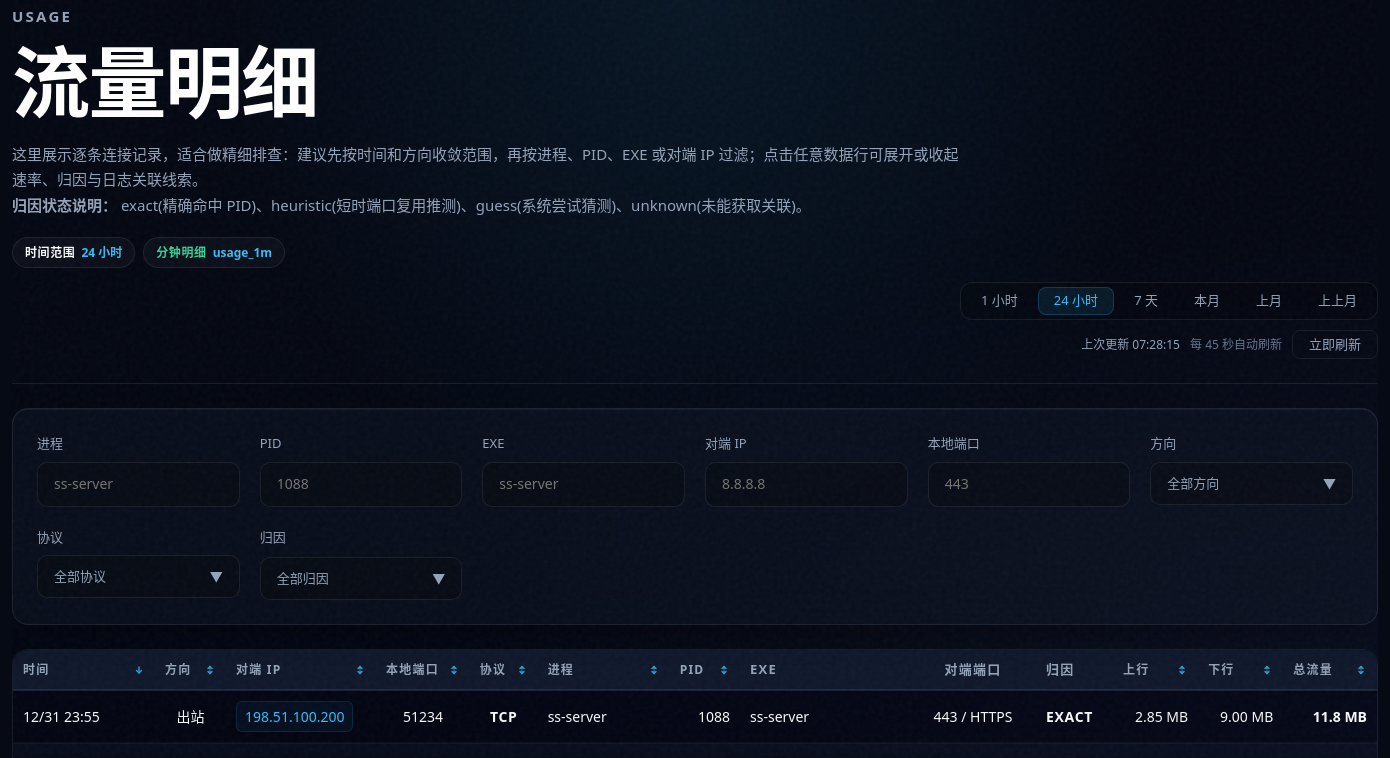
Test: traffic-go web ui › does not expose placeholder rows after changing the usage scope
Expected: the button "198.51.100.200" is shown, [236,701,353,732]
Click the tab "7 天".
click(1146, 301)  # box [1118,287,1174,315]
(page scrolled)
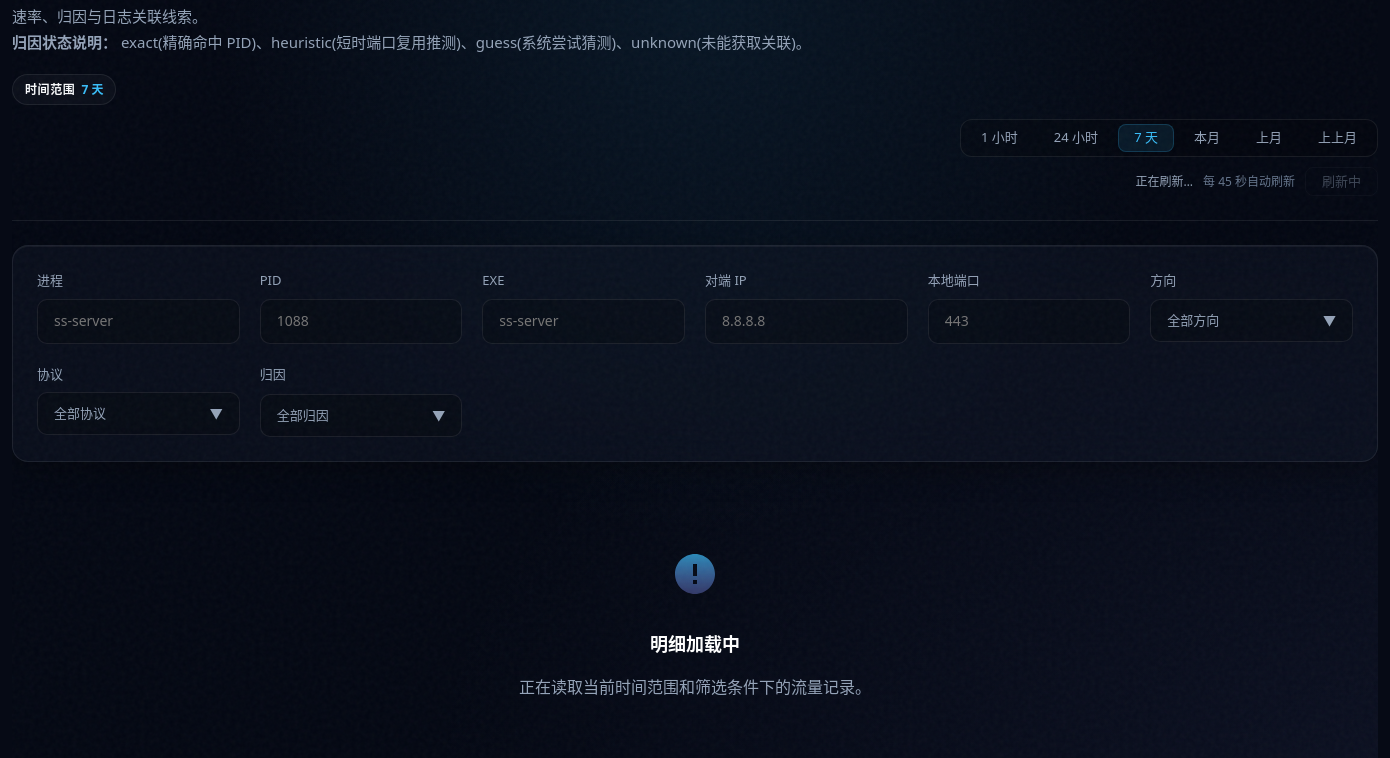
Result: the heading "明细加载中" is shown at [650,630,740,659]
Result: the button "198.51.100.200" is gone
Result: the row "展开详情" is gone
